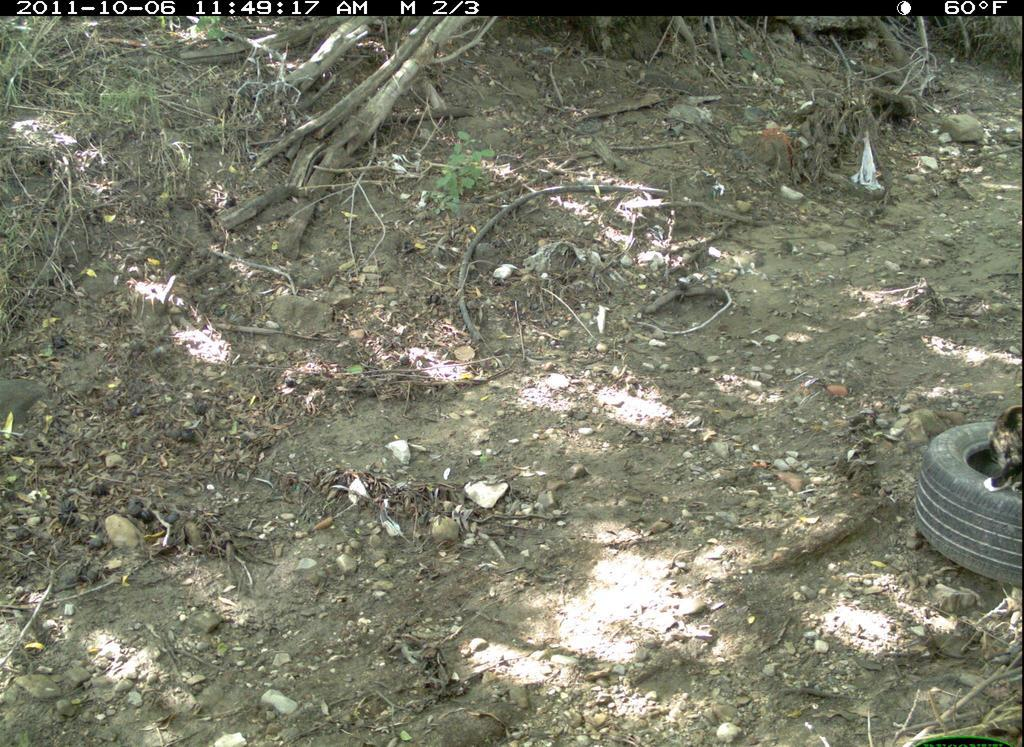cat: (982, 398, 1024, 495)
